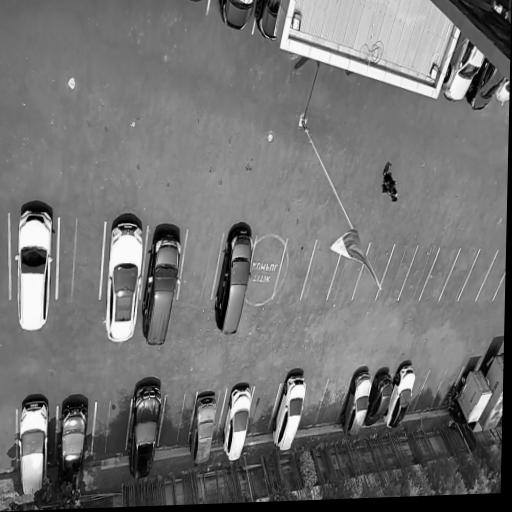Car: (136, 214, 184, 359), (100, 205, 146, 350), (12, 194, 58, 337), (210, 226, 257, 338), (54, 390, 92, 504), (17, 394, 54, 503), (439, 33, 488, 105), (269, 373, 311, 455), (448, 363, 494, 428), (218, 385, 255, 465), (187, 392, 221, 466), (338, 370, 375, 438), (381, 365, 419, 430), (464, 57, 506, 113), (362, 369, 396, 431), (213, 0, 256, 36), (253, 0, 282, 45), (492, 78, 510, 105)
Space Available: (58, 219, 104, 301), (179, 233, 225, 302), (246, 236, 288, 297), (353, 241, 395, 301), (302, 241, 344, 300), (377, 242, 419, 300), (275, 241, 316, 300), (92, 401, 131, 462), (327, 243, 369, 299), (439, 247, 480, 302), (457, 249, 499, 302), (159, 394, 197, 450), (420, 249, 460, 302), (399, 249, 439, 301), (246, 386, 280, 438), (316, 378, 350, 426), (475, 251, 506, 301), (298, 381, 328, 430), (413, 371, 447, 413), (0, 412, 17, 474), (406, 371, 429, 414)
